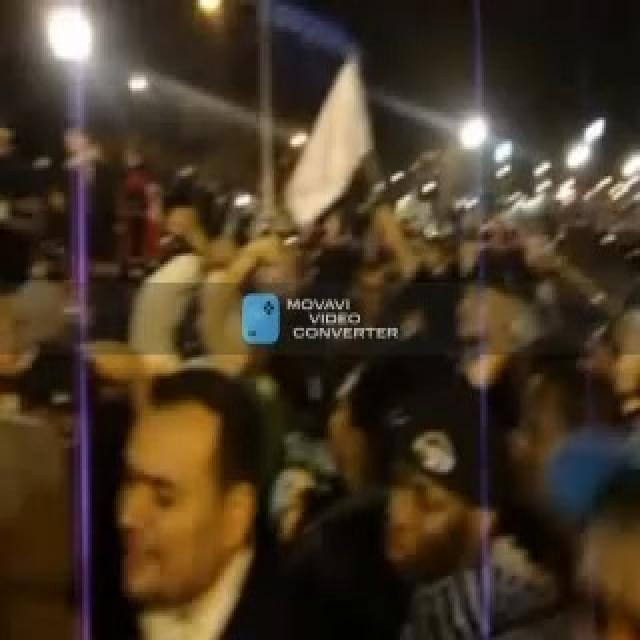non-voilence: (0, 102, 638, 638), (108, 363, 292, 637), (282, 293, 400, 344)
